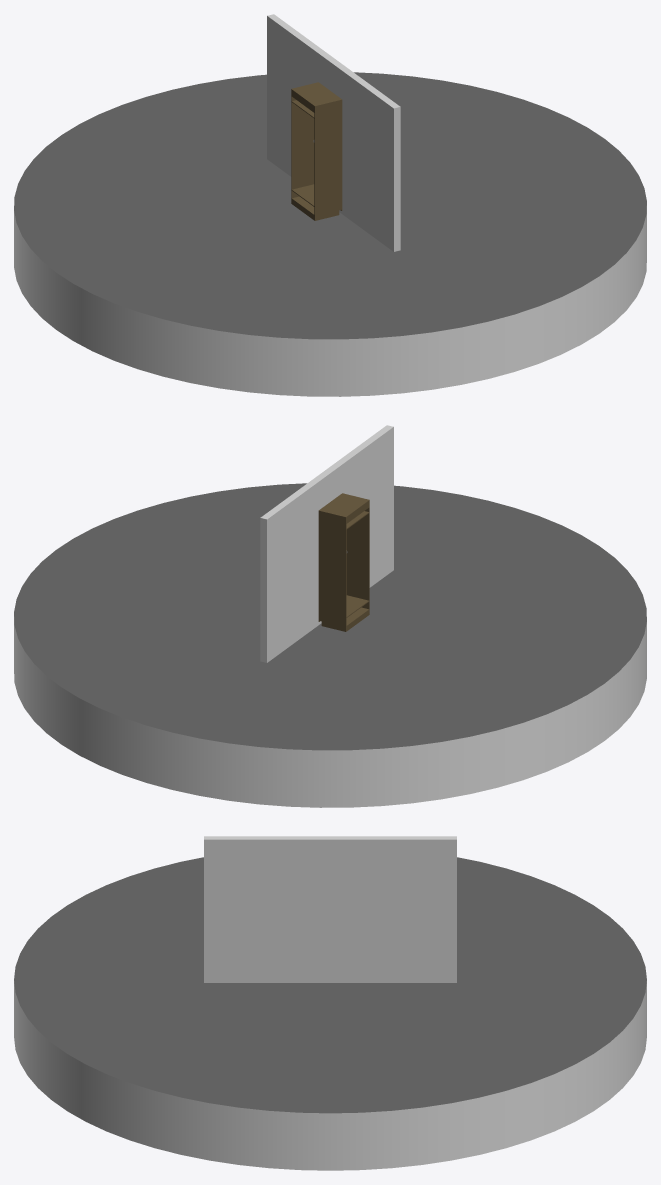
Rendered from Biome_Shelf_Rack_B.glb.
3 renders of one model, top to bottom at view 1: azimuth 30°, elevation 25°; view 2: azimuth 150°, elevation 25°; view 3: azimuth 270°, elevation 25°, orthographic.
Parts seen in each view (by area): view 1: Biome.002, Backwall.004, BUILT IN - TALL - CURTAIN ROD -BASE- [5497031].001; view 2: Biome.002, Backwall.004, BUILT IN - TALL - CURTAIN ROD -BASE- [5497031].001; view 3: Biome.002, Backwall.004.
Boxes of the visible parts, left/top/right/bottom form: Biome.002: left=14, top=72, right=646, bottom=396; Backwall.004: left=267, top=14, right=400, bottom=251; BUILT IN - TALL - CURTAIN ROD -BASE- [5497031].001: left=291, top=82, right=342, bottom=220; Biome.002: left=14, top=483, right=646, bottom=807; Backwall.004: left=260, top=425, right=393, bottom=662; BUILT IN - TALL - CURTAIN ROD -BASE- [5497031].001: left=318, top=493, right=369, bottom=631; Biome.002: left=14, top=857, right=646, bottom=1170; Backwall.004: left=204, top=836, right=456, bottom=982.
Size of the model in its own units: 12.19 by 4.27 by 12.19.
